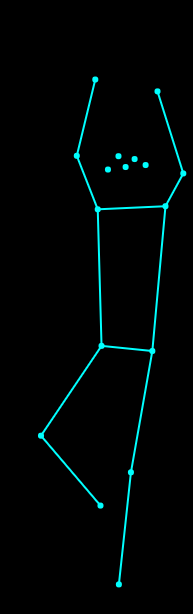tree: (34, 63, 193, 590)
